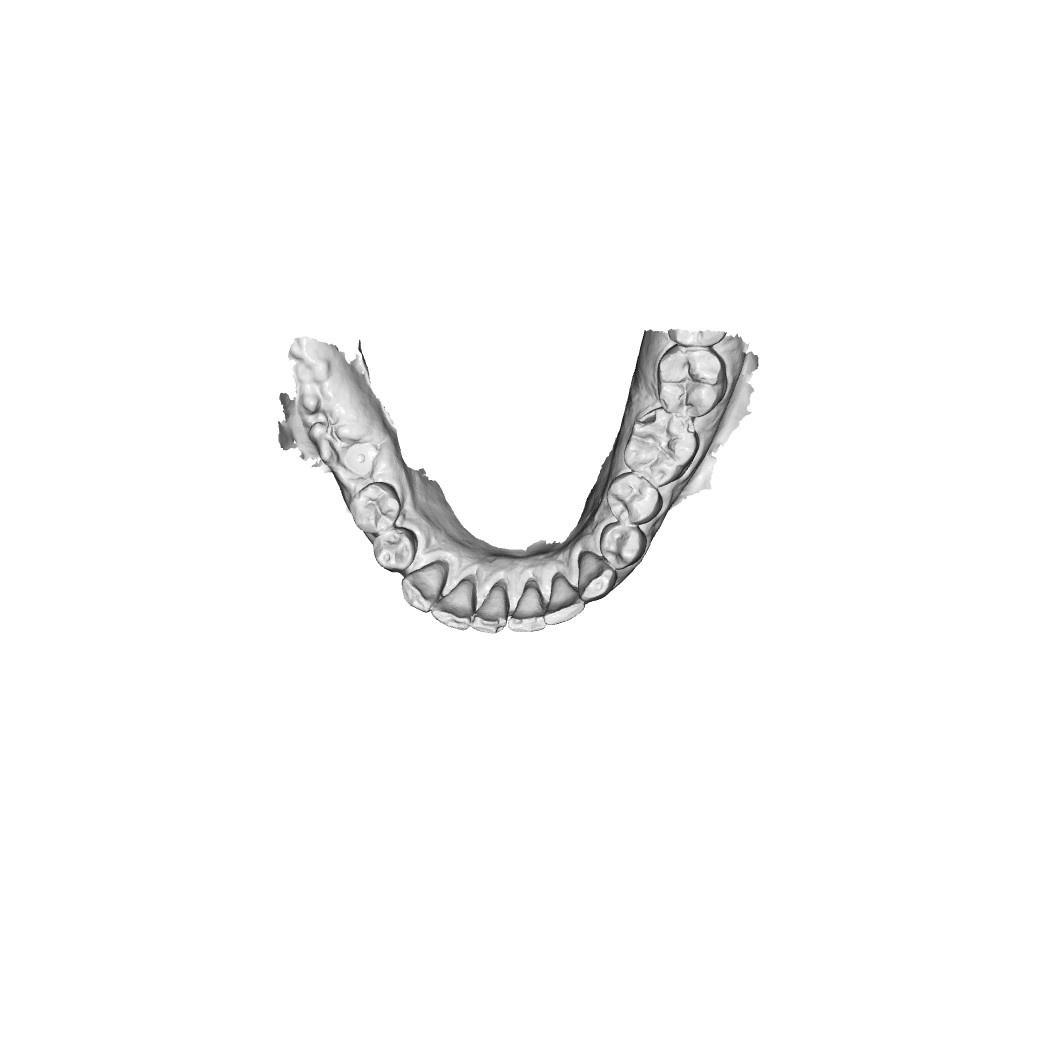canine: (400, 559, 448, 612), (578, 551, 614, 601)
incisor: (431, 573, 475, 630), (505, 581, 551, 633), (544, 572, 584, 625), (472, 579, 510, 633)
molar: (625, 404, 696, 485), (660, 345, 725, 416)
premolar: (604, 472, 663, 525), (348, 482, 404, 533), (598, 520, 651, 567), (368, 527, 419, 573)
